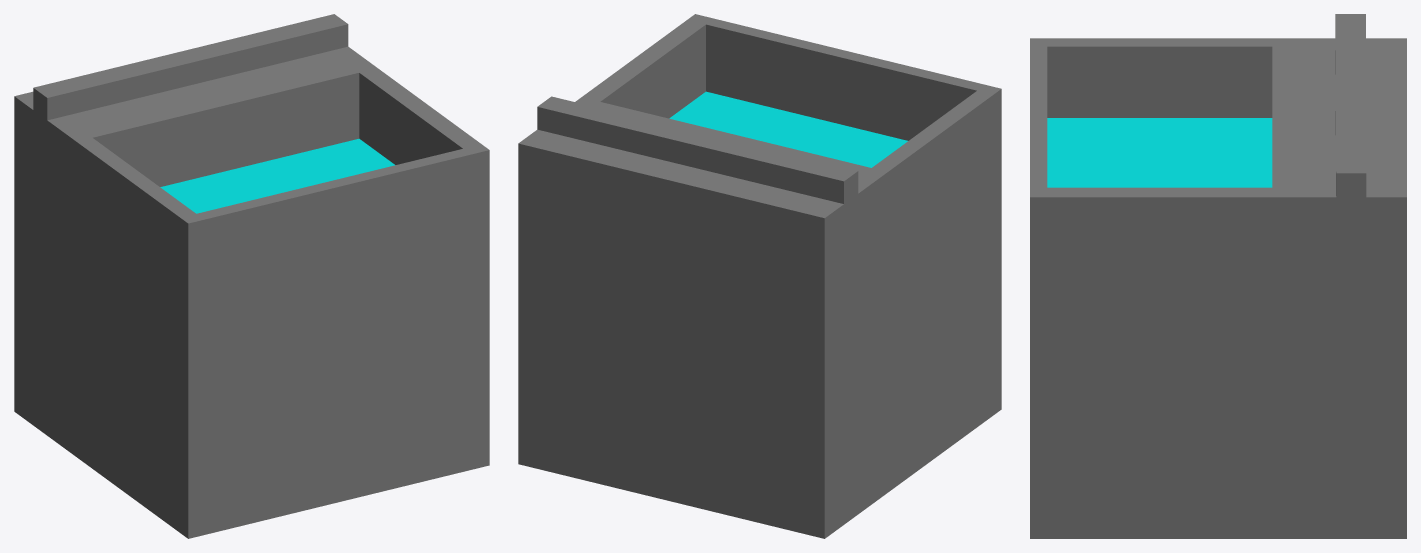
Rendered from zink.fbx.
The picture shows the model from 3 angles, left to right: view 1: azimuth 30°, elevation 25°; view 2: azimuth 150°, elevation 25°; view 3: azimuth 270°, elevation 25°; orthographic projection. The views are drawn at different scales.
Visible parts, largest first — view 1: pCube1; view 2: pCube1; view 3: pCube1.
Part boxes in pixels (box(x1,y1,x2,y2)): pCube1: box(14, 14, 489, 538); pCube1: box(518, 14, 1001, 538); pCube1: box(1030, 14, 1406, 538).
Bounding box in the file's own units: 1 × 1.07 × 1.
